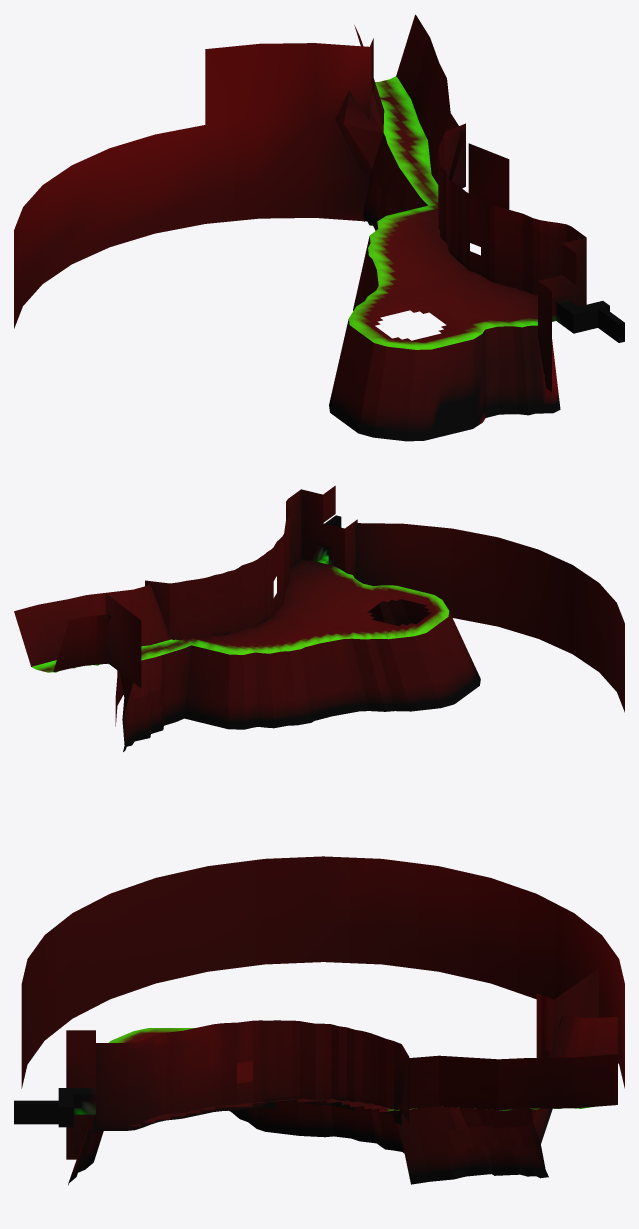
Rendered from castle_graveyard.obj.
3 views of the same model, one above another, from view 1: azimuth 30°, elevation 25°; view 2: azimuth 150°, elevation 25°; view 3: azimuth 270°, elevation 25° (orthographic). The views are drawn at different scales.
Visible parts, largest first — view 1: OuterWall, SteepRock, DirtFloor, Bricks; view 2: SteepRock, OuterWall, Bricks, DirtFloor; view 3: OuterWall, Bricks, SteepRock, DirtFloor.
Boxes of the visible parts, x1,y1,x2,y2 form: OuterWall: [14, 38, 509, 328]; SteepRock: [329, 14, 560, 441]; DirtFloor: [348, 76, 537, 349]; Bricks: [438, 123, 624, 392]; SteepRock: [14, 585, 480, 751]; OuterWall: [105, 523, 624, 726]; Bricks: [145, 485, 357, 640]; DirtFloor: [31, 559, 449, 672]; OuterWall: [21, 856, 624, 1088]; Bricks: [14, 1020, 409, 1159]; SteepRock: [68, 1016, 617, 1185]; DirtFloor: [109, 1028, 594, 1125].
Size of the model in its own units: 82.87 by 31.01 by 81.93.
